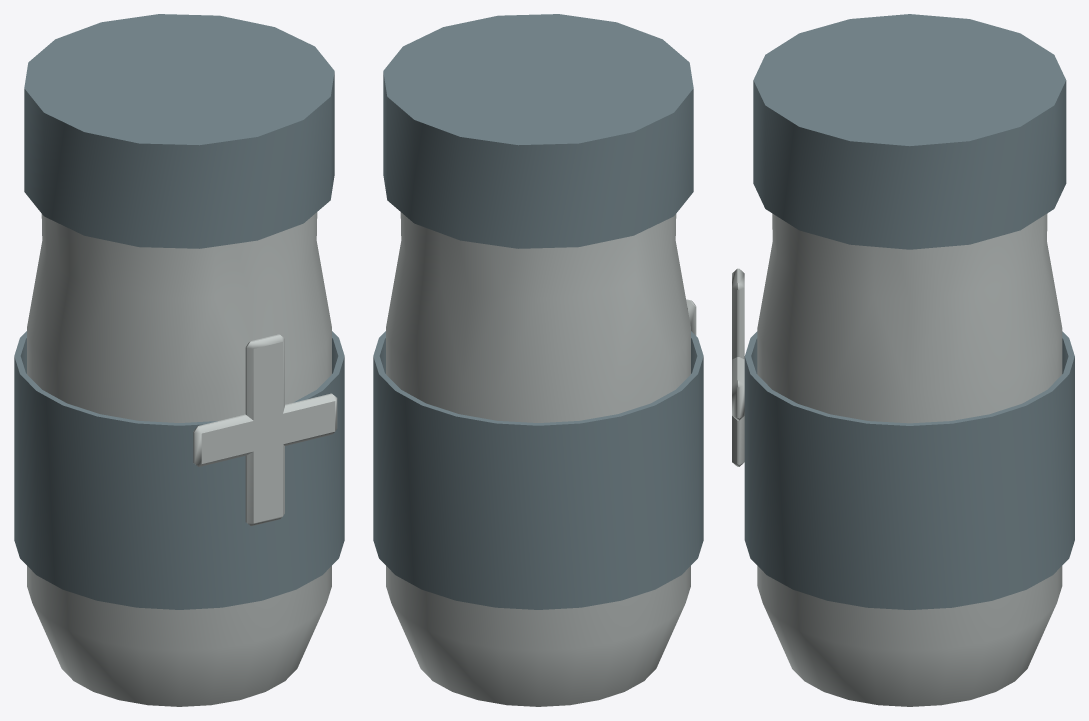
File: medicine-bottle.glb
3 renders of one model, left to right at view 1: azimuth 30°, elevation 25°; view 2: azimuth 150°, elevation 25°; view 3: azimuth 270°, elevation 25°, orthographic.
Parts seen in each view (by area): view 1: bottle_body, closure, raised_label, label_cross_vertical, label_cross_horizontal; view 2: bottle_body, closure, raised_label; view 3: bottle_body, closure, raised_label, label_cross_vertical, label_cross_horizontal.
Part boxes in pixels (x1=…): bottle_body: x1=27, y1=212, x2=331, y2=706; closure: x1=24, y1=14, x2=334, y2=248; raised_label: x1=14, y1=331, x2=344, y2=609; label_cross_vertical: x1=245, y1=334, x2=284, y2=526; label_cross_horizontal: x1=193, y1=393, x2=337, y2=466; bottle_body: x1=386, y1=212, x2=690, y2=706; closure: x1=383, y1=14, x2=693, y2=248; raised_label: x1=373, y1=331, x2=703, y2=609; bottle_body: x1=757, y1=213, x2=1062, y2=706; closure: x1=753, y1=14, x2=1066, y2=249; raised_label: x1=744, y1=331, x2=1074, y2=609; label_cross_vertical: x1=732, y1=268, x2=744, y2=466; label_cross_horizontal: x1=732, y1=357, x2=744, y2=420.
Size of the model in its own units: 0.052 by 0.1 by 0.054.
